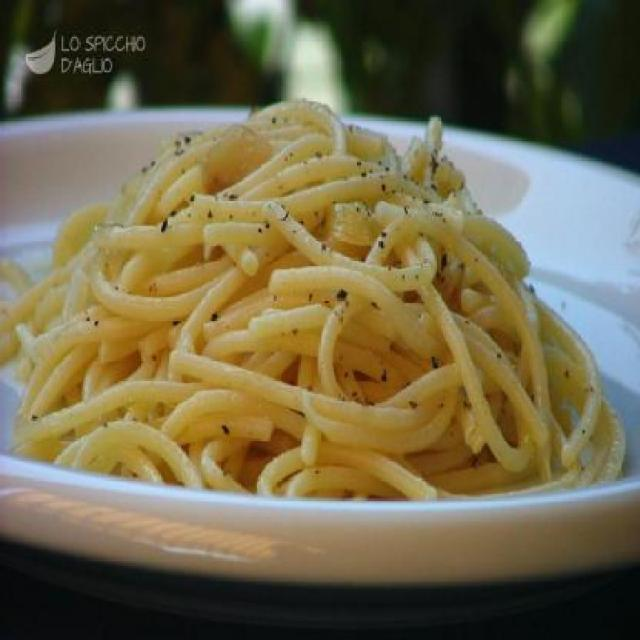Oil pasta: (13, 76, 621, 595)
